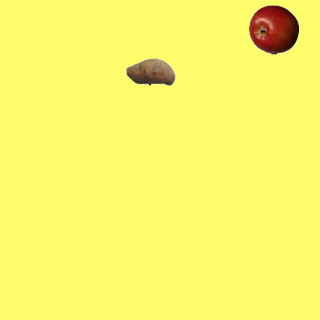Apple Braeburn: (248, 4, 298, 54)
Potato Sweet: (125, 46, 175, 96)
